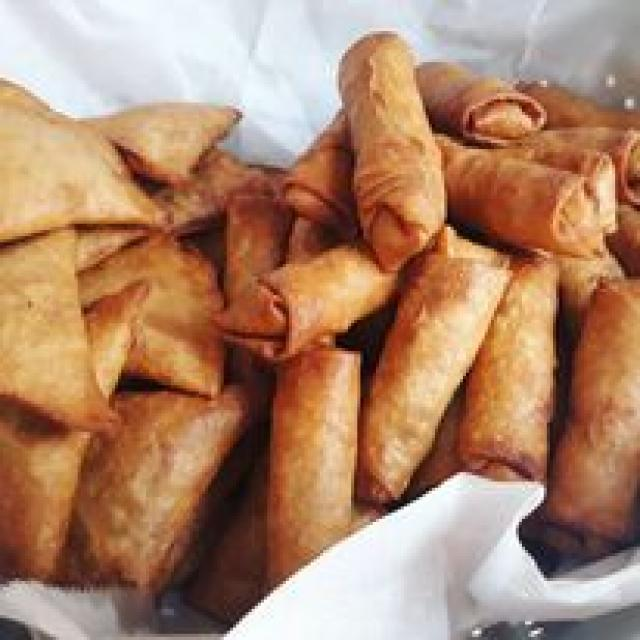Samosa: (3, 60, 238, 619)
Spring Rolls: (239, 24, 637, 600)
